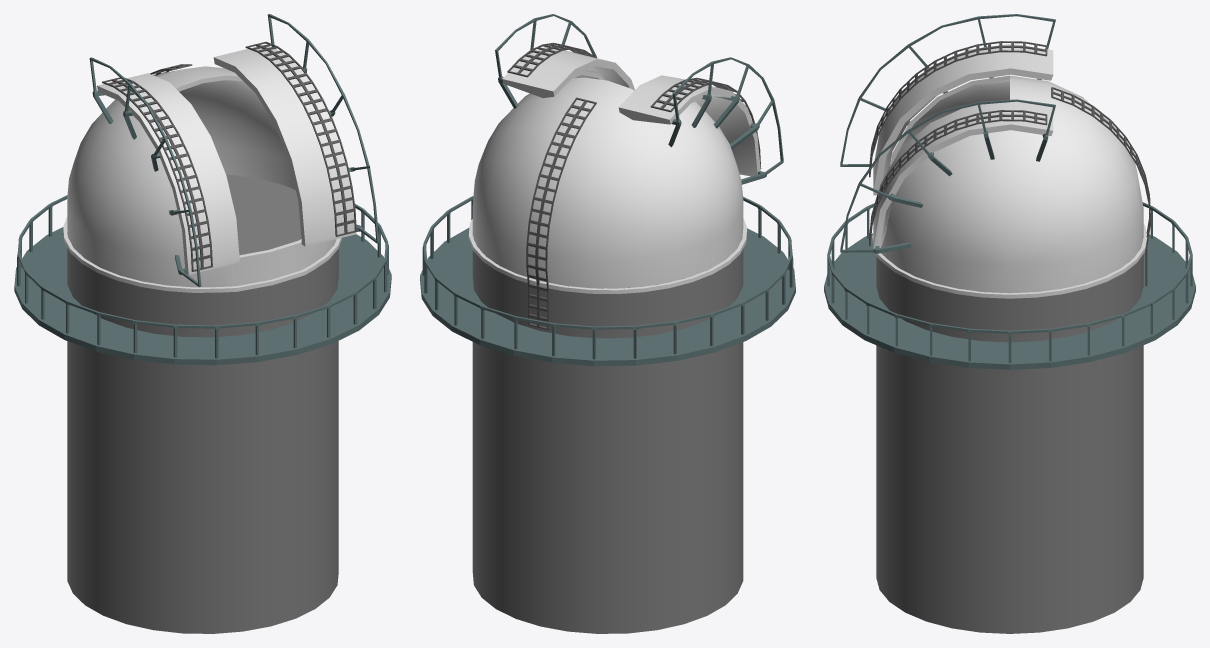
File: Coronografo.fbx
The picture shows the model from 3 angles, left to right: view 1: azimuth 30°, elevation 25°; view 2: azimuth 150°, elevation 25°; view 3: azimuth 270°, elevation 25°; orthographic projection.
Visible parts, largest first — view 1: Torre_cupula_solar, Cupula_solar, cierre_cupulaB, Pasarela_cupula_solar, Barandilla_cupula_solar, Barandilla_cierre_cupula; view 2: Torre_cupula_solar, Cupula_solar, Pasarela_cupula_solar, cierre_cupulaB, Barandilla_cupula_solar, rejilla.001, Barandilla_cierre_cupula; view 3: Torre_cupula_solar, Cupula_solar, Pasarela_cupula_solar, cierre_cupulaB, Barandilla_cupula_solar, Barandilla_cierre_cupula, rejilla.001.
Boxes of the visible parts, <box> form: Torre_cupula_solar: <box>67,174,338,633</box>; Cupula_solar: <box>63,66,342,292</box>; cierre_cupulaB: <box>97,41,356,275</box>; Pasarela_cupula_solar: <box>14,227,391,365</box>; Barandilla_cupula_solar: <box>17,195,388,358</box>; Barandilla_cierre_cupula: <box>89,14,379,287</box>; Torre_cupula_solar: <box>472,238,743,633</box>; Cupula_solar: <box>468,71,747,293</box>; Pasarela_cupula_solar: <box>420,228,795,366</box>; cierre_cupulaB: <box>502,42,761,176</box>; Barandilla_cupula_solar: <box>422,196,793,359</box>; rejilla.001: <box>526,97,596,329</box>; Barandilla_cierre_cupula: <box>495,14,783,184</box>; Torre_cupula_solar: <box>876,218,1143,633</box>; Cupula_solar: <box>872,75,1147,298</box>; Pasarela_cupula_solar: <box>824,233,1195,369</box>; cierre_cupulaB: <box>869,41,1053,248</box>; Barandilla_cupula_solar: <box>827,202,1192,362</box>; Barandilla_cierre_cupula: <box>840,14,1055,253</box>; rejilla.001: <box>1051,87,1150,286</box>.
Bounding box in the file's own units: 1111 × 1716 × 1111.
